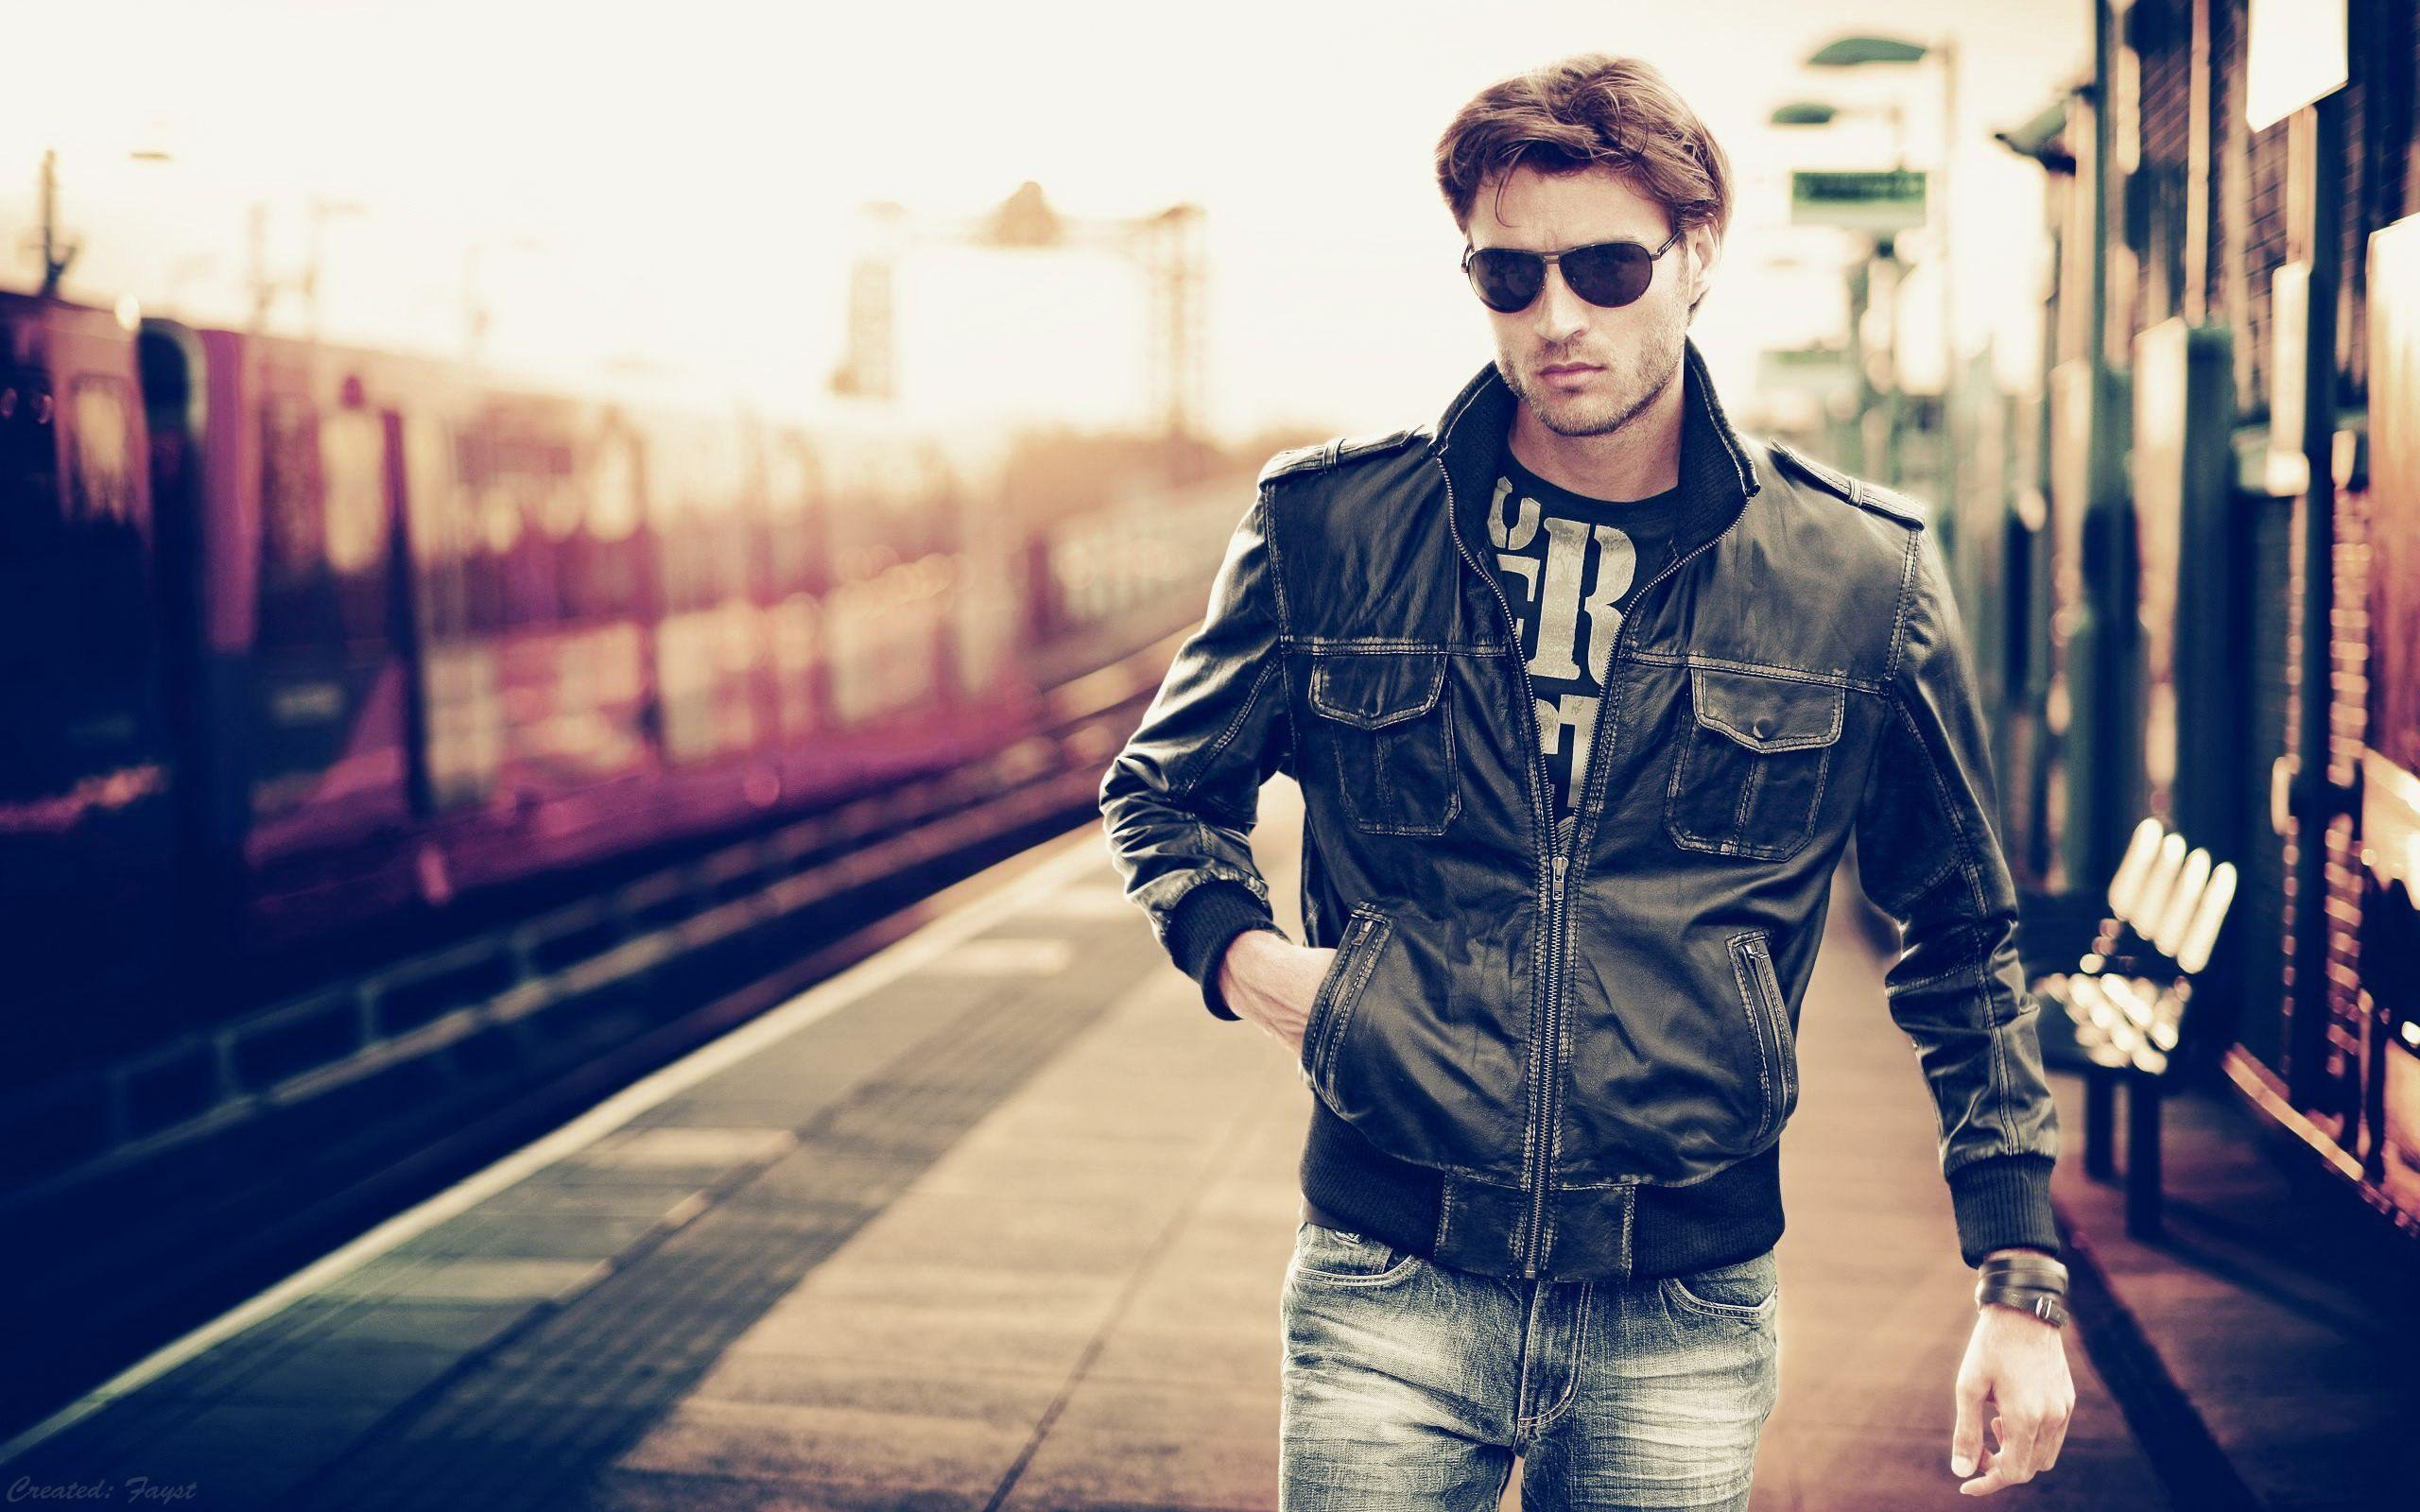noMask: (1420, 23, 1734, 420)
